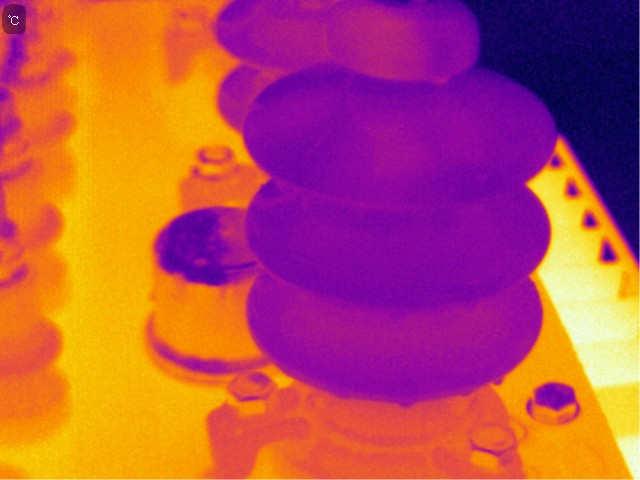Oil: (326, 1, 424, 82), (395, 393, 416, 412), (487, 371, 506, 389), (455, 386, 476, 400)
